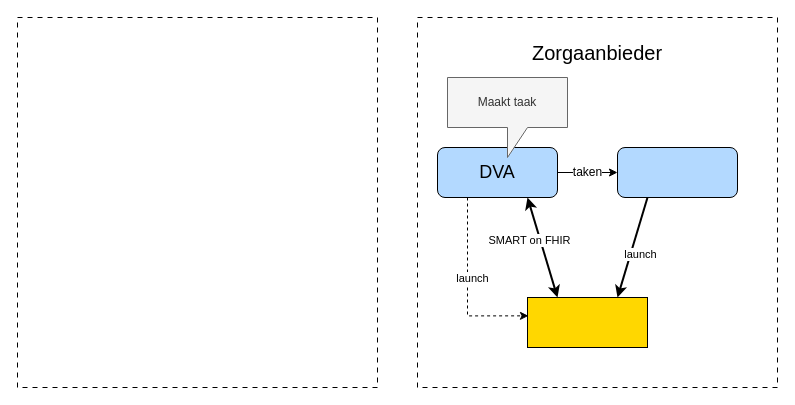
This 795x405 diagram has some shape labels left out. Here are the shapes that lost their labels. From the top down, the box of each, then its label:
(616, 146, 738, 198): PGO
(526, 296, 648, 348): Module
